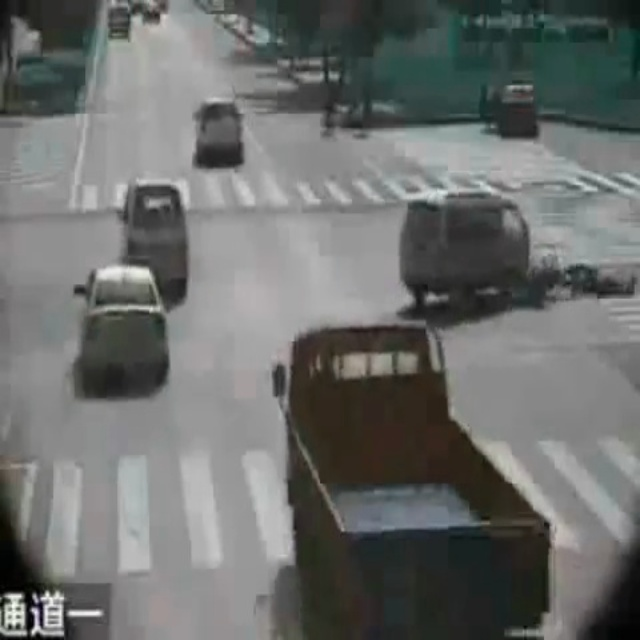acc: (398, 186, 630, 318)
